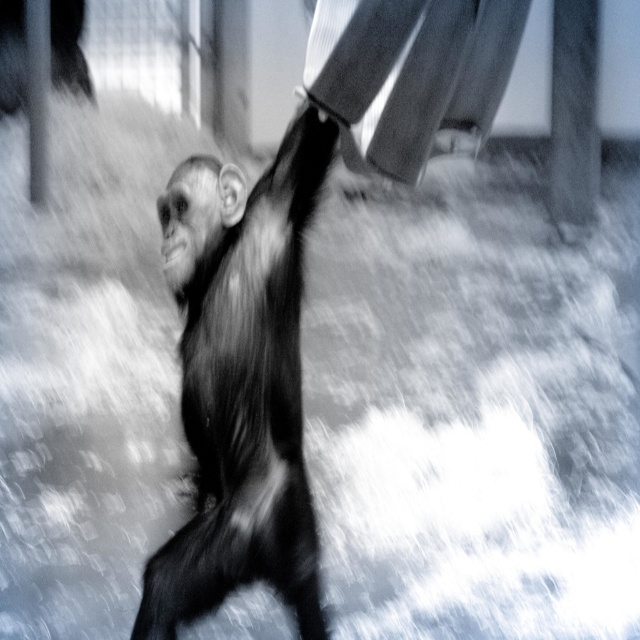Monkey: (114, 86, 481, 640)
